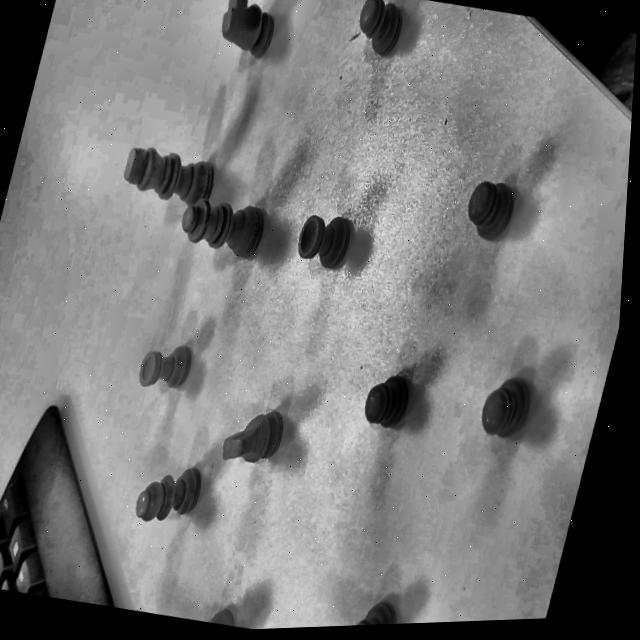white-bishop: (118, 454, 212, 537)
white-king: (110, 129, 228, 225)
white-knight: (206, 400, 303, 486), (206, 0, 292, 84)
white-pawn: (463, 356, 552, 463), (457, 163, 533, 263), (350, 349, 428, 443), (335, 0, 428, 73), (332, 590, 406, 626)
white-queen: (175, 185, 277, 272)
white-rook: (284, 192, 371, 287), (128, 337, 205, 412)
